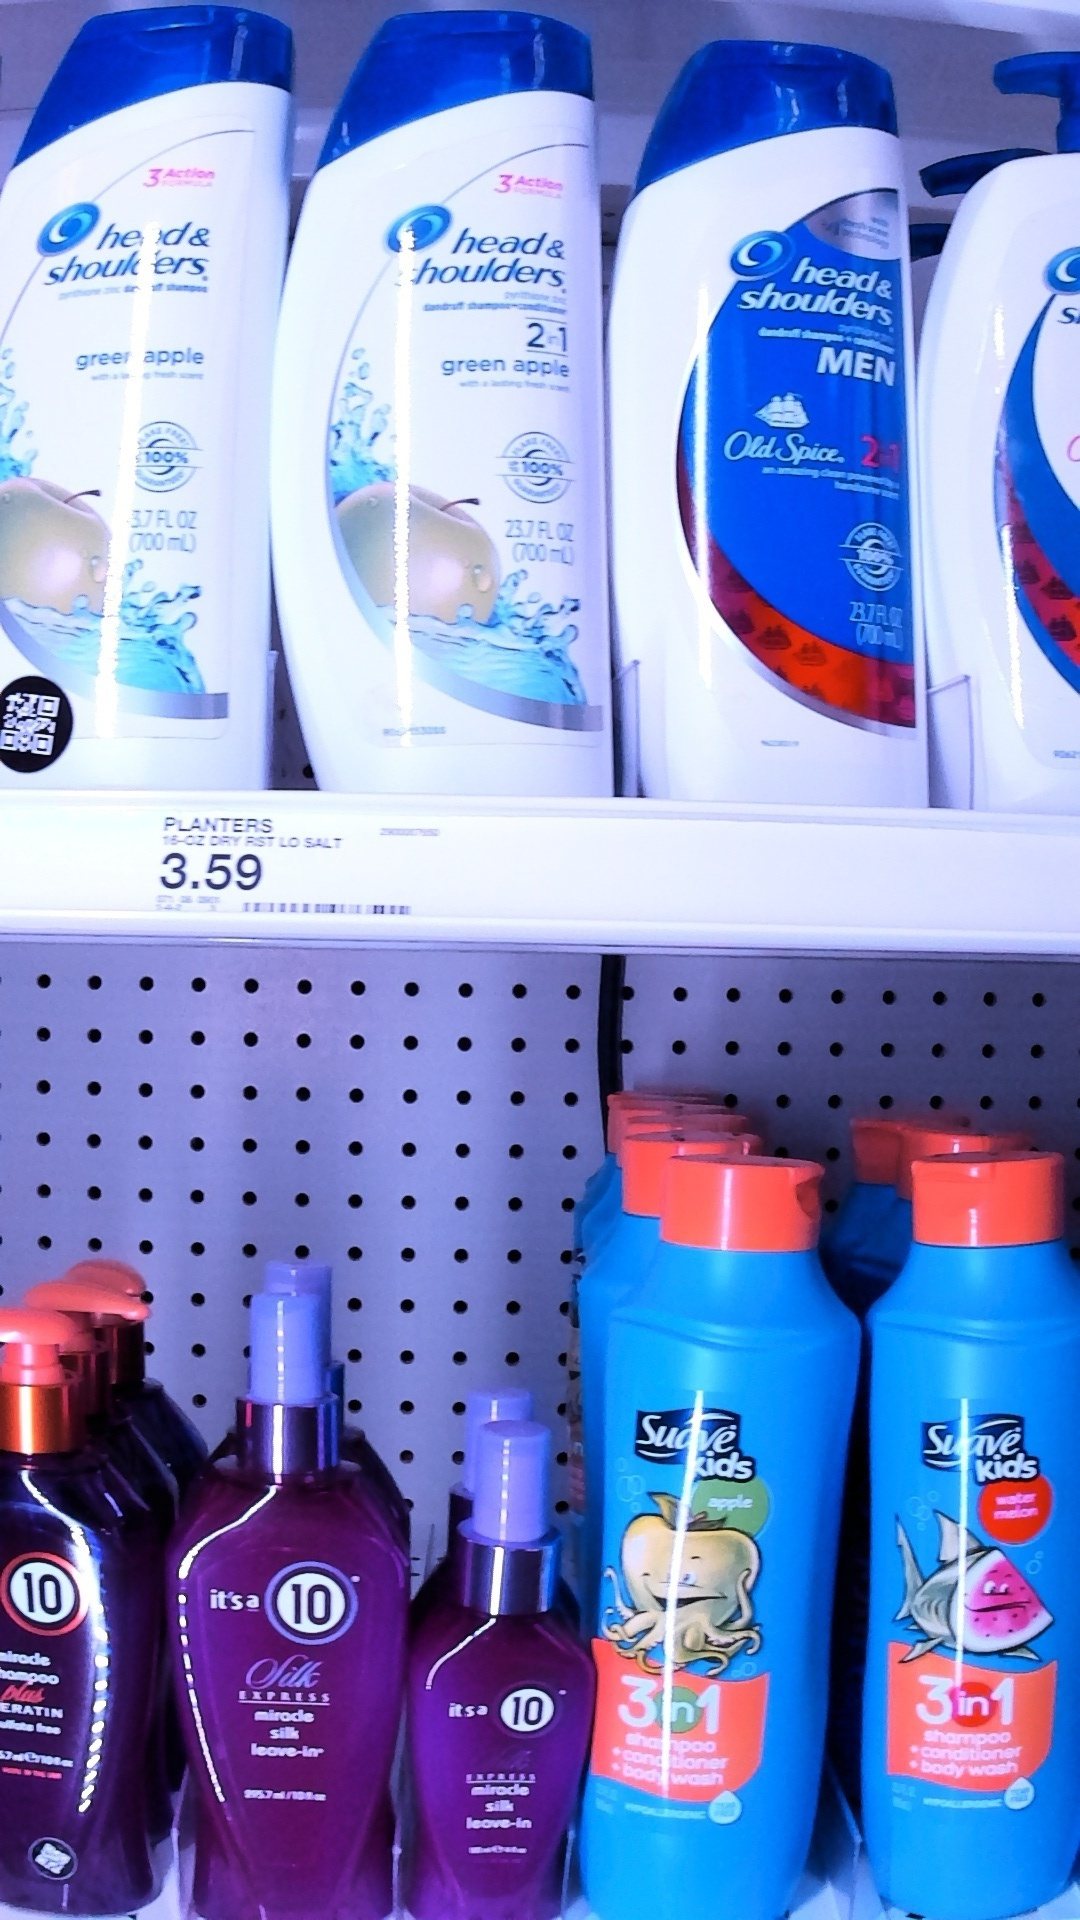ptag: (153, 795, 451, 940)
